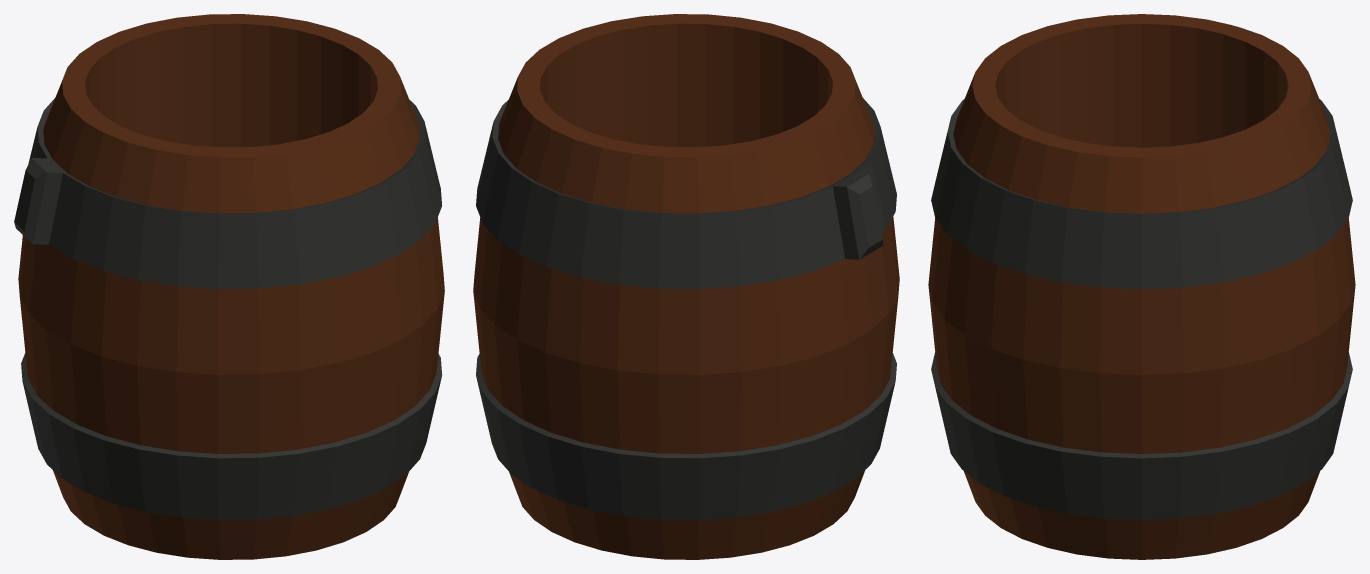
File: Barrel.glb
3 views of the same model, side by side, from view 1: azimuth 30°, elevation 25°; view 2: azimuth 150°, elevation 25°; view 3: azimuth 270°, elevation 25° (orthographic).
Visible parts, largest first — view 1: Cylinder; view 2: Cylinder; view 3: Cylinder.
Boxes of the visible parts, left/top/right/bottom form: Cylinder: left=14, top=14, right=444, bottom=559; Cylinder: left=473, top=14, right=899, bottom=559; Cylinder: left=928, top=14, right=1355, bottom=559.
Bounding box in the file's own units: 4.4 × 4.37 × 4.21.
